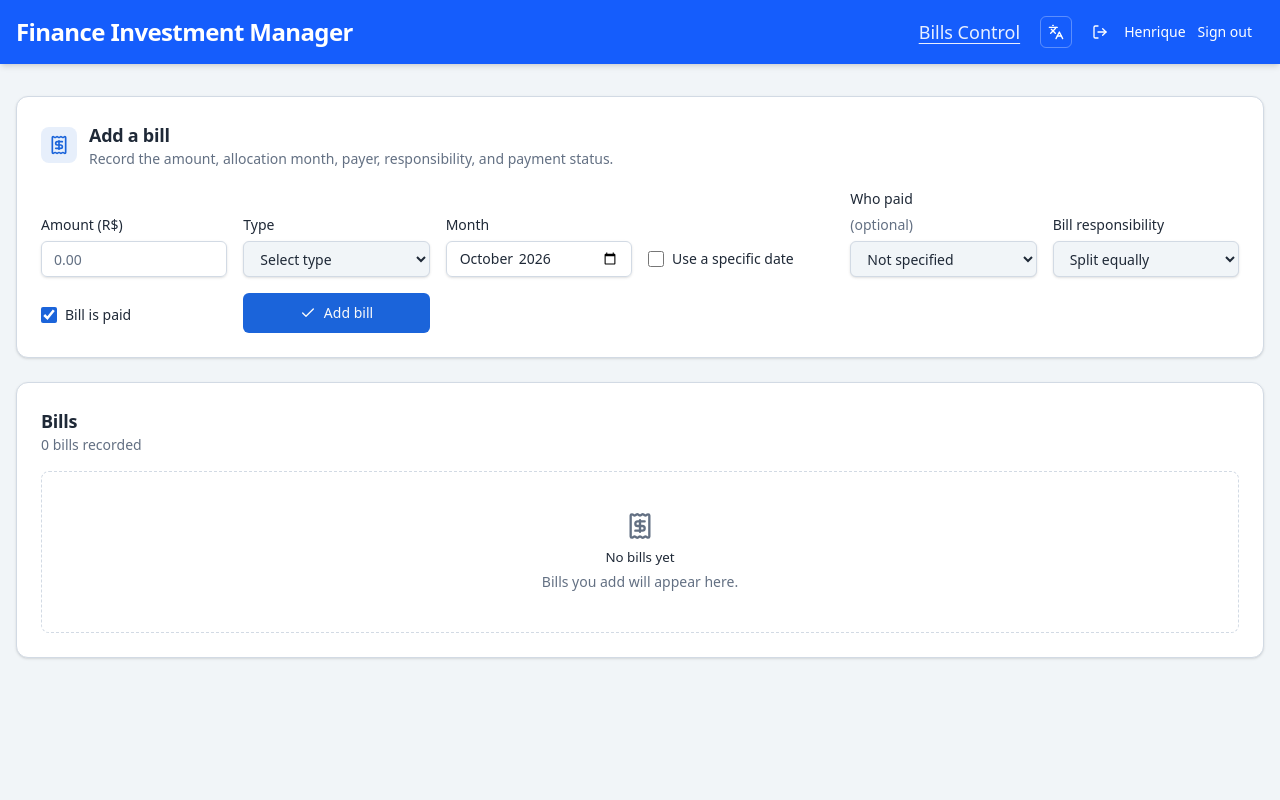
Test case: BillsControlPage received amounts › shows details, receiver, fixed equal split, and the received amount action
Step 1. Select "Shared amount received" in the dropdown labelled "Type" → (336, 259), box [243,241,430,277]
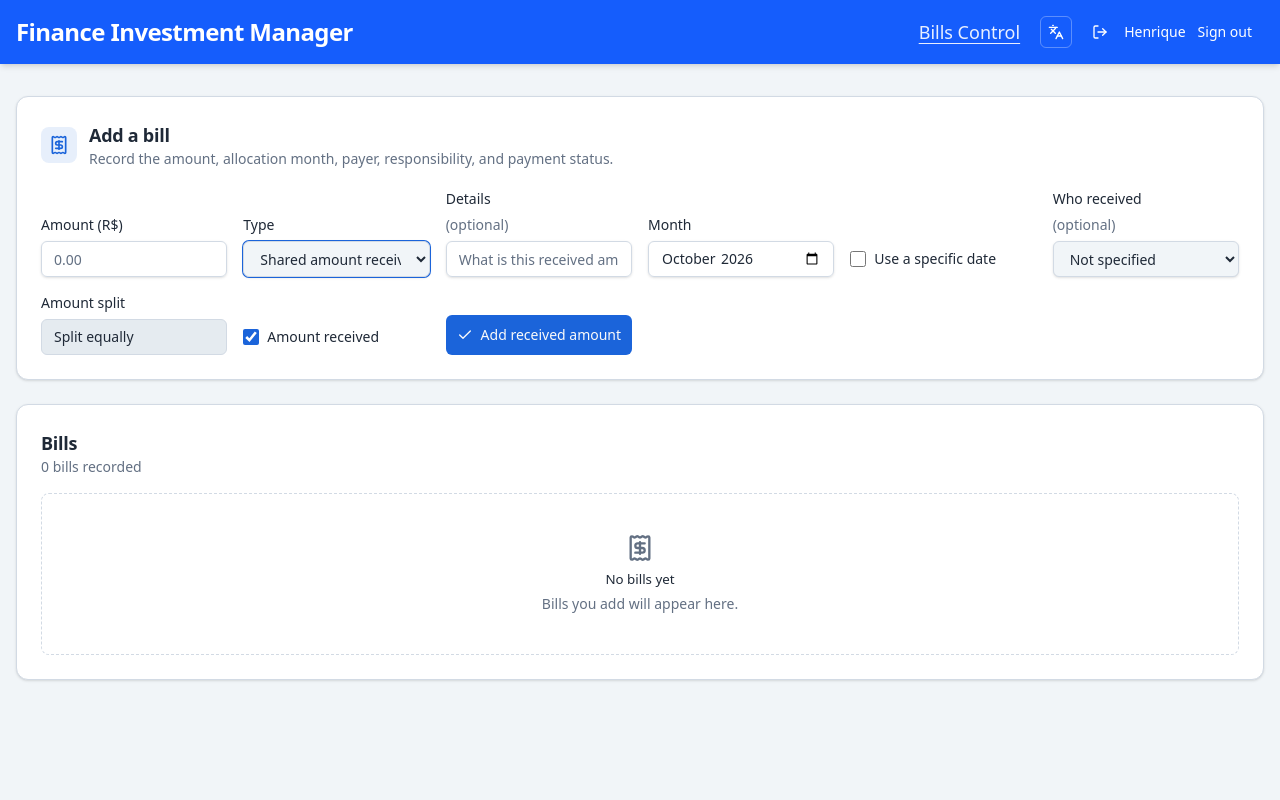
Expected: the field labelled "Details (optional)" is shown, [446,241,632,277]
Expected: the text "Amount split" is shown, [41,293,125,312]
Expected: the text "Split equally" is shown, [41,319,227,355]
